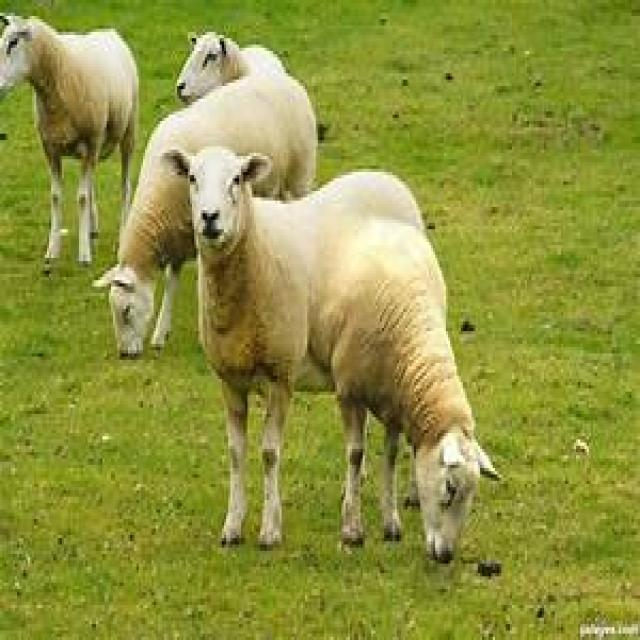animal: (160, 143, 501, 564), (89, 70, 318, 357), (0, 10, 139, 264)
